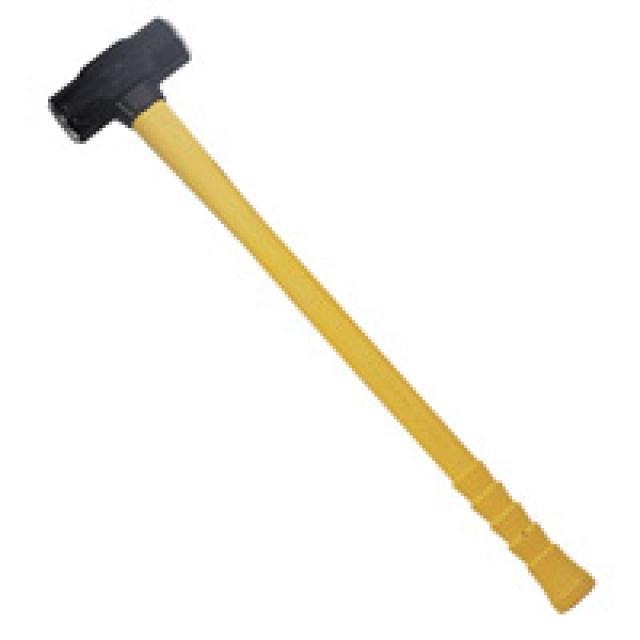hammer: (41, 12, 602, 620)
